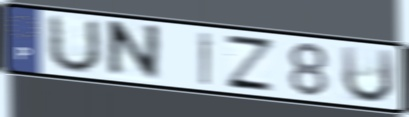8: (285, 40, 333, 98)
I: (197, 30, 214, 88)
N: (104, 19, 162, 83)
U: (45, 12, 104, 75), (338, 43, 396, 105)
Z: (222, 32, 278, 94)
